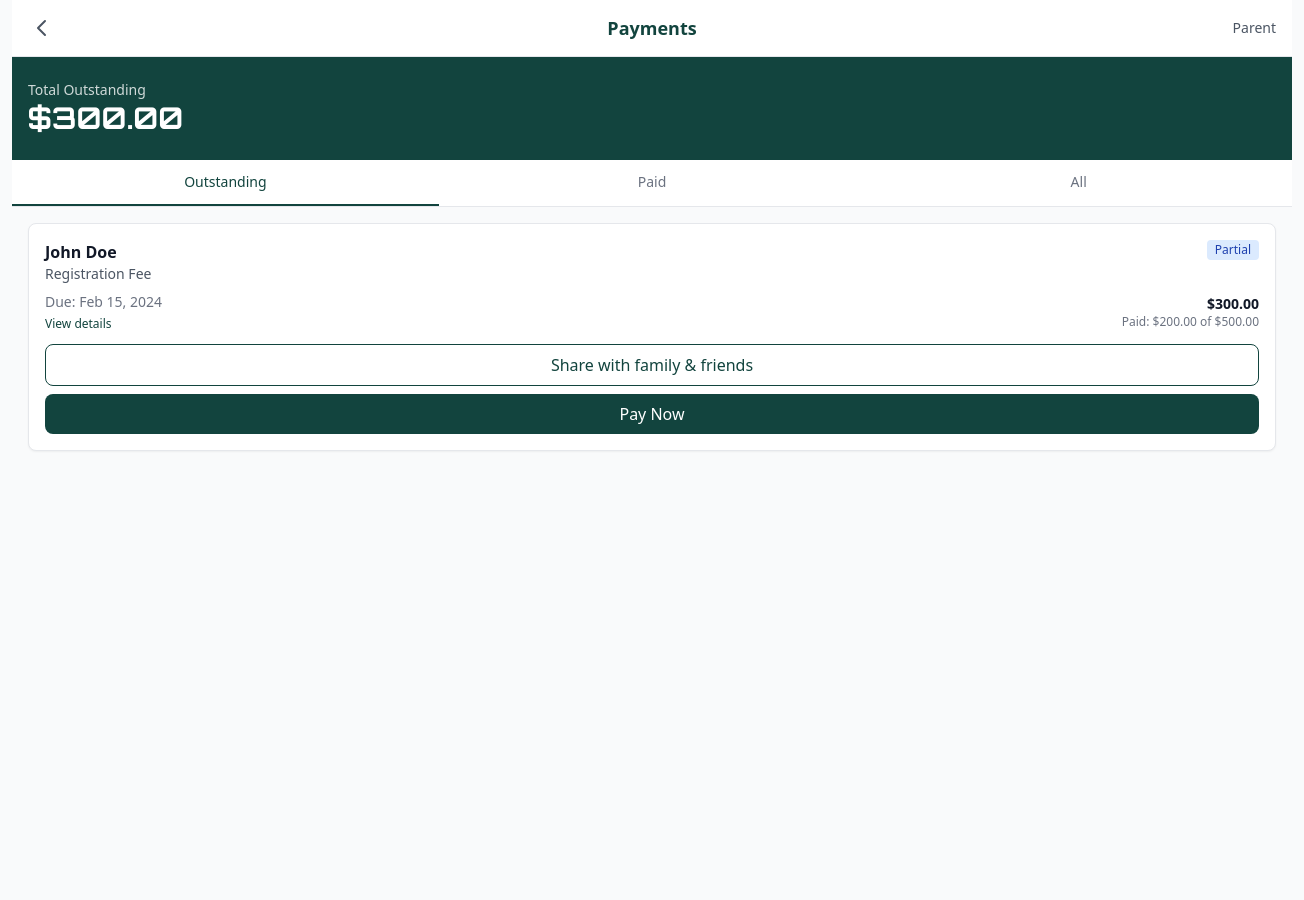
Test case: PaymentStatusPage › expanding an invoice fetches and renders line items, amounts, and athlete name
The width and height of the screenshot is (1304, 900).
Check: the element with test id "invoice-card-1" is shown, box [28,223,1276,451]
Expand to load detail.
What coordinates should you click on to do the following:
click the text "View details"
I would click on:
 (78, 324)
Its box is [45,315,112,332].
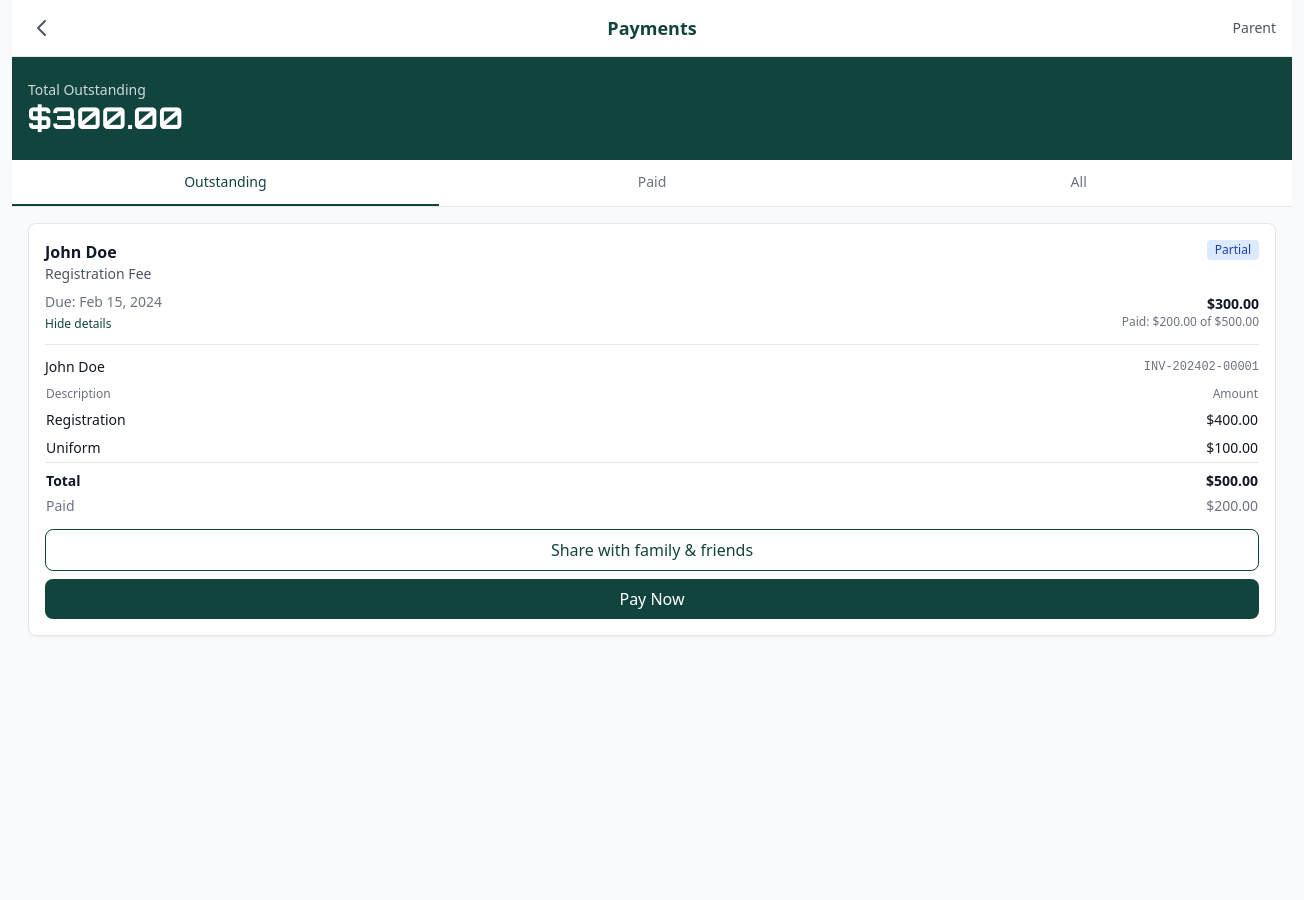
Check: the text "Registration" is shown, box [45,406,776,434]
Check: the element with test id "invoice-detail-1" is shown, box [45,344,1259,517]
Check: the text "Uniform" is shown, box [45,434,776,462]
